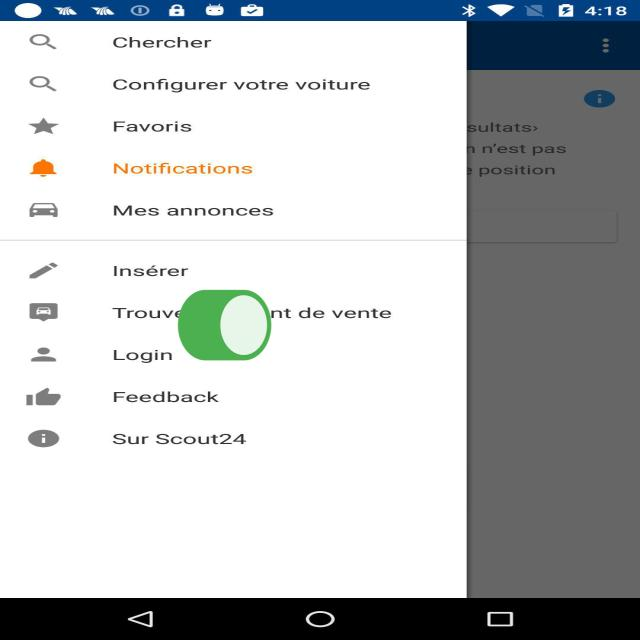social proof: (174, 263, 276, 393)
